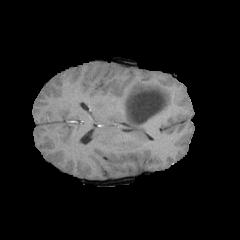glioma: (116, 78, 171, 133)
